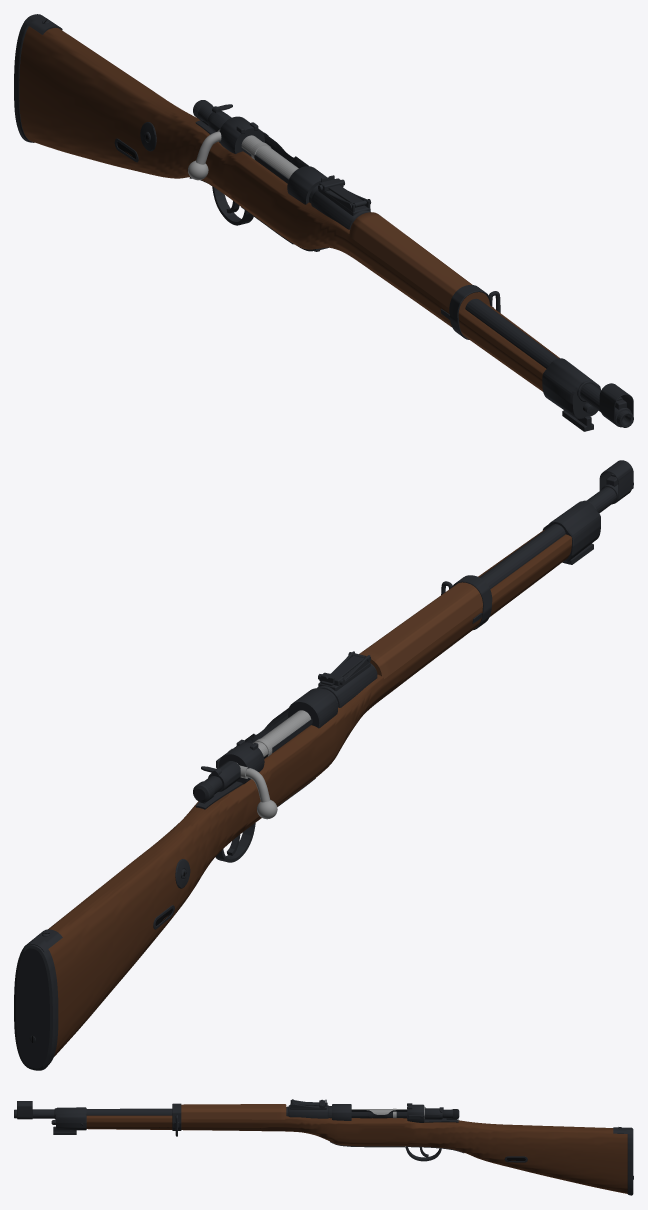
Rendered from de-kar98k.glb.
The picture shows the model from 3 angles, top to bottom: view 1: azimuth 30°, elevation 25°; view 2: azimuth 150°, elevation 25°; view 3: azimuth 270°, elevation 25°; orthographic projection. The views are drawn at different scales.
Visible parts, largest first — view 1: kar98k-body; view 2: kar98k-body; view 3: kar98k-body.
Part boxes in pixels (x1=…): kar98k-body: x1=14, y1=14, x2=633, y2=431; kar98k-body: x1=14, y1=460, x2=633, y2=1070; kar98k-body: x1=14, y1=1099, x2=633, y2=1195.
Size of the model in its own units: 0.0786 by 0.1844 by 1.11.
